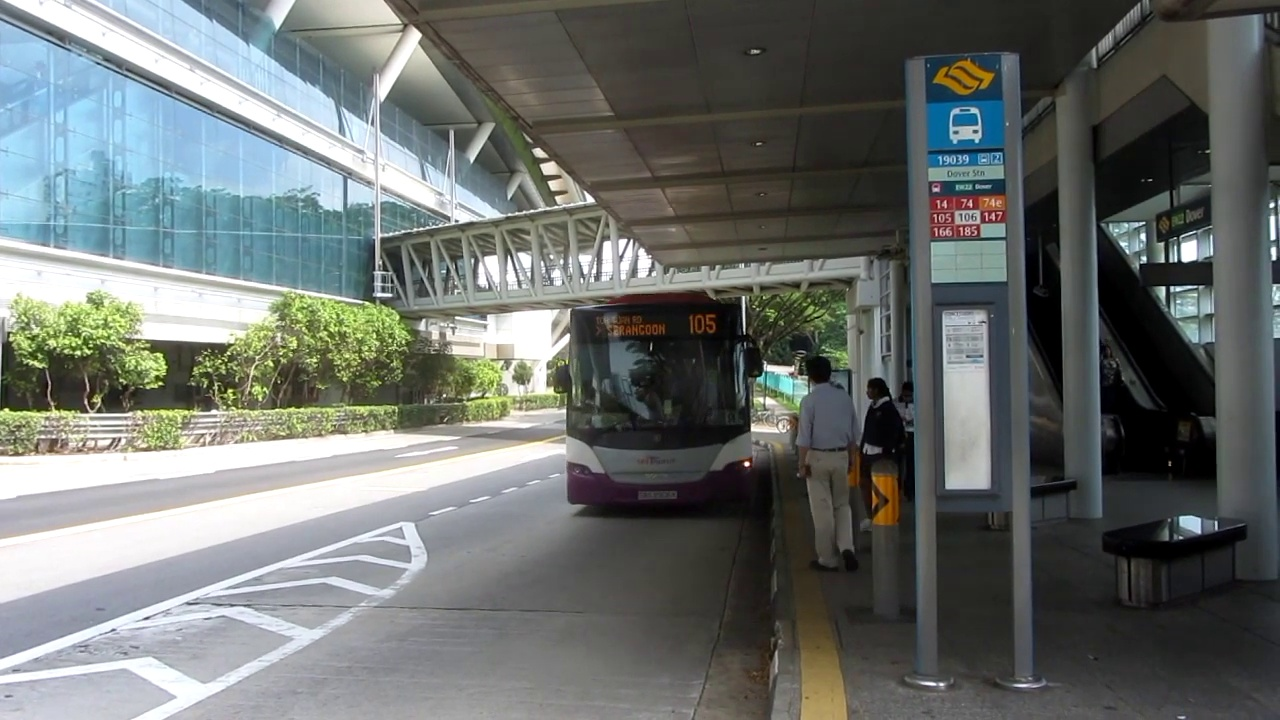bus panel: (593, 312, 718, 338)
